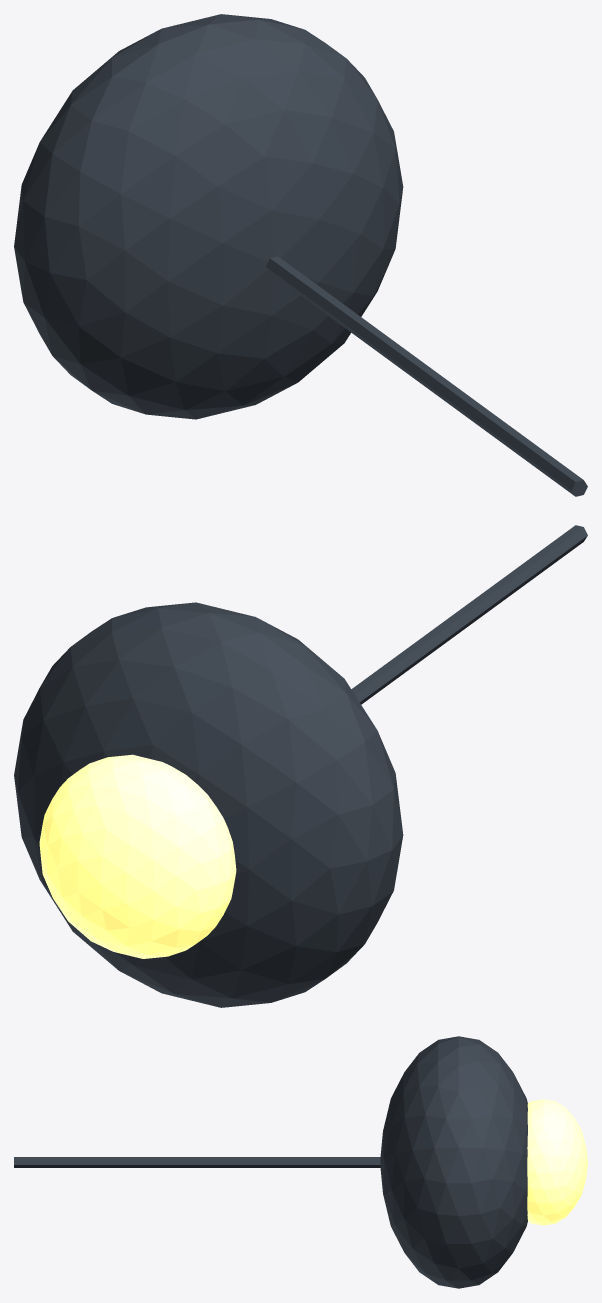
The model's file is LIGHT_PENDANT_WARM_001.glb.
3 renders of one model, top to bottom at view 1: azimuth 30°, elevation 25°; view 2: azimuth 150°, elevation 25°; view 3: azimuth 270°, elevation 25°, orthographic. The views are drawn at different scales.
Parts seen in each view (by area): view 1: shade_001, cord_000; view 2: shade_001, bulb_002, cord_000; view 3: shade_001, bulb_002, cord_000.
Part boxes in pixels (<box>): shade_001: <box>14,14,403,419</box>; cord_000: <box>266,256,587,496</box>; shade_001: <box>14,602,403,1007</box>; bulb_002: <box>39,754,236,958</box>; cord_000: <box>351,525,587,704</box>; shade_001: <box>380,1036,527,1288</box>; bulb_002: <box>527,1099,587,1225</box>; cord_000: <box>14,1157,380,1167</box>.
Bounding box in the file's own units: 0.36 × 0.36 × 0.813.
